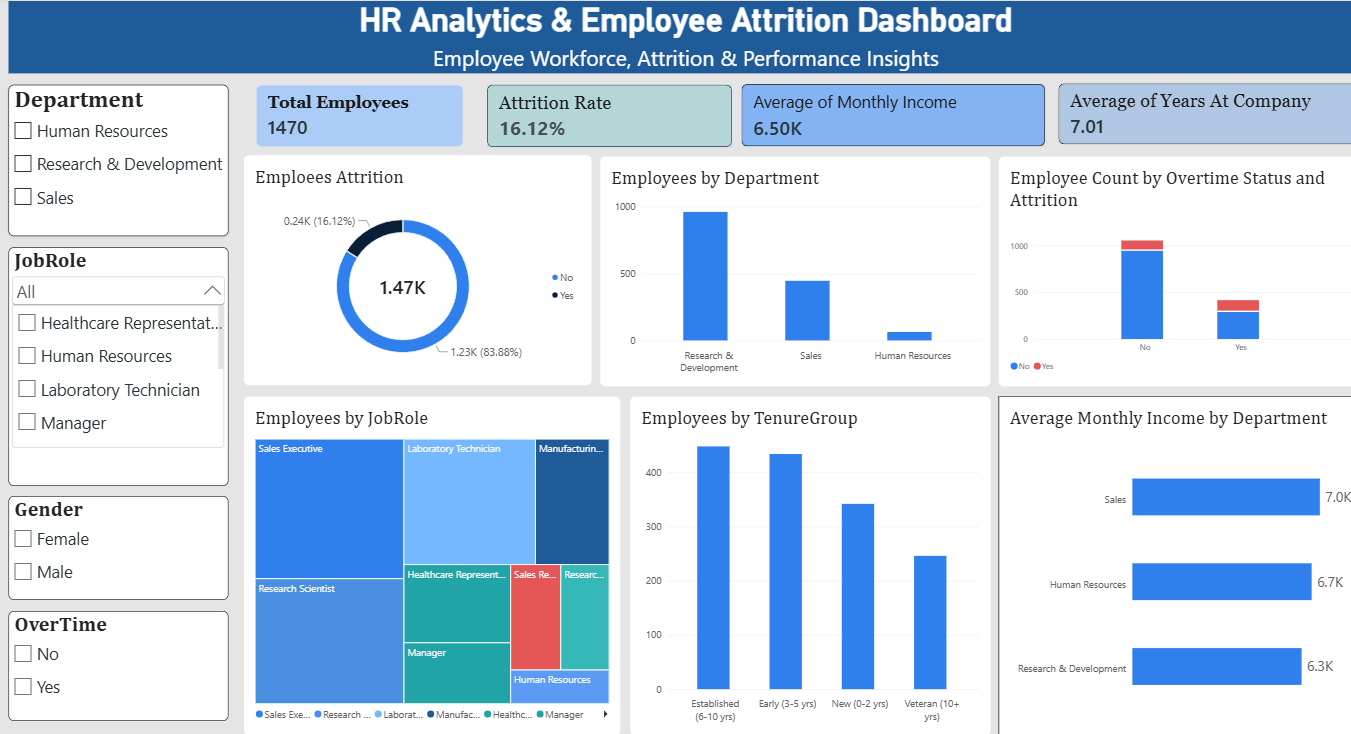

The dashboard page shown, as its layout file describes it:
{"tool":"powerbi","page":{"name":"Page 1","canvas":[2000,1080],"ordinal":0},"visuals":[{"type":"textbox","title":"  HR Analytics & Employee Attrition Dashboard","box":[18.1,7.2,1961.7,105],"z":0},{"type":"cardVisual","fields":{"Data":["select","Cleaned_Data.Attrition Rate"]},"box":[711.2,128.5,354.7,90.5],"z":1000},{"type":"cardVisual","fields":{"Data":["Avg(Cleaned_Data.MonthlyIncome)"]},"box":[1078.6,126.7,441.6,92.3],"z":2000},{"type":"cardVisual","fields":{"Data":["Avg(Cleaned_Data.YearsAtCompany)"]},"box":[1538.2,126.7,441.6,88.7],"z":3000},{"type":"slicer","fields":{"Values":["Cleaned_Data.Department"]},"box":[18.1,128.5,318.5,219],"z":4000},{"type":"slicer","fields":{"Values":["Cleaned_Data.JobRole"]},"box":[18.1,363.7,318.5,345.6],"z":5000},{"type":"slicer","fields":{"Values":["Cleaned_Data.Gender"]},"box":[18.1,723.9,318.5,150.2],"z":6000},{"type":"slicer","fields":{"Values":["Cleaned_Data.OverTime"]},"box":[18.1,890.4,318.5,159.3],"z":7000},{"type":"donutChart","title":"Emploees Attrition","fields":{"Category":["Cleaned_Data.Attrition"],"Y":["CountNonNull(Cleaned_Data.Attrition)"]},"box":[358.3,229.8,504.9,334.8],"z":8000},{"type":"clusteredColumnChart","title":"Employees by Department","fields":{"Category":["Cleaned_Data.Department"],"Y":["Sum(Cleaned_Data.EmployeeCount)"]},"box":[874.1,231.6,566.4,334.8],"z":9000},{"type":"treemap","title":"Employees by JobRole","fields":{"Group":["Cleaned_Data.JobRole"],"Values":["Sum(Cleaned_Data.EmployeeCount)"]},"box":[358.3,579.1,546.5,492.2],"z":10000},{"type":"columnChart","title":"Employee Count by Overtime Status and Attrition","fields":{"Category":["Cleaned_Data.OverTime"],"Series":["Cleaned_Data.Attrition"],"Y":["Sum(Cleaned_Data.EmployeeCount)"]},"box":[1451.3,231.6,528.4,334.8],"z":11000},{"type":"clusteredColumnChart","title":"Employees by TenureGroup","fields":{"Category":["Cleaned_Data.TenureGroup"],"Y":["Sum(Cleaned_Data.EmployeeCount)"]},"box":[917.5,579.1,523,492.2],"z":12000},{"type":"clusteredBarChart","title":"Average Monthly Income by Department","fields":{"Category":["Cleaned_Data.Department"],"Y":["Avg(Cleaned_Data.MonthlyIncome)"]},"box":[1451.3,579.1,528.4,492.2],"z":13000},{"type":"cardVisual","fields":{"Data":["Sum(Cleaned_Data.EmployeeCount)"]},"box":[376,128,300,90],"z":14000}]}

Visuals, with their boxes in screenshot pixels (x1, y1, x2, y2), scaled from the page's 2000x1080 canvas onto the 1351x734 screenshot:
"  HR Analytics & Employee Attrition Dashboard" textbox: rect(12, 5, 1337, 76)
cardVisual - select x Cleaned_Data.Attrition Rate: rect(480, 87, 720, 149)
cardVisual - Avg(Cleaned_Data.MonthlyIncome): rect(729, 86, 1027, 149)
cardVisual - Avg(Cleaned_Data.YearsAtCompany): rect(1039, 86, 1337, 146)
slicer - Cleaned_Data.Department: rect(12, 87, 227, 236)
slicer - Cleaned_Data.JobRole: rect(12, 247, 227, 482)
slicer - Cleaned_Data.Gender: rect(12, 492, 227, 594)
slicer - Cleaned_Data.OverTime: rect(12, 605, 227, 713)
"Emploees Attrition" donutChart: rect(242, 156, 583, 384)
"Employees by Department" clusteredColumnChart: rect(590, 157, 973, 385)
"Employees by JobRole" treemap: rect(242, 394, 611, 728)
"Employee Count by Overtime Status and Attrition" columnChart: rect(980, 157, 1337, 385)
"Employees by TenureGroup" clusteredColumnChart: rect(620, 394, 973, 728)
"Average Monthly Income by Department" clusteredBarChart: rect(980, 394, 1337, 728)
cardVisual - Sum(Cleaned_Data.EmployeeCount): rect(254, 87, 457, 148)
